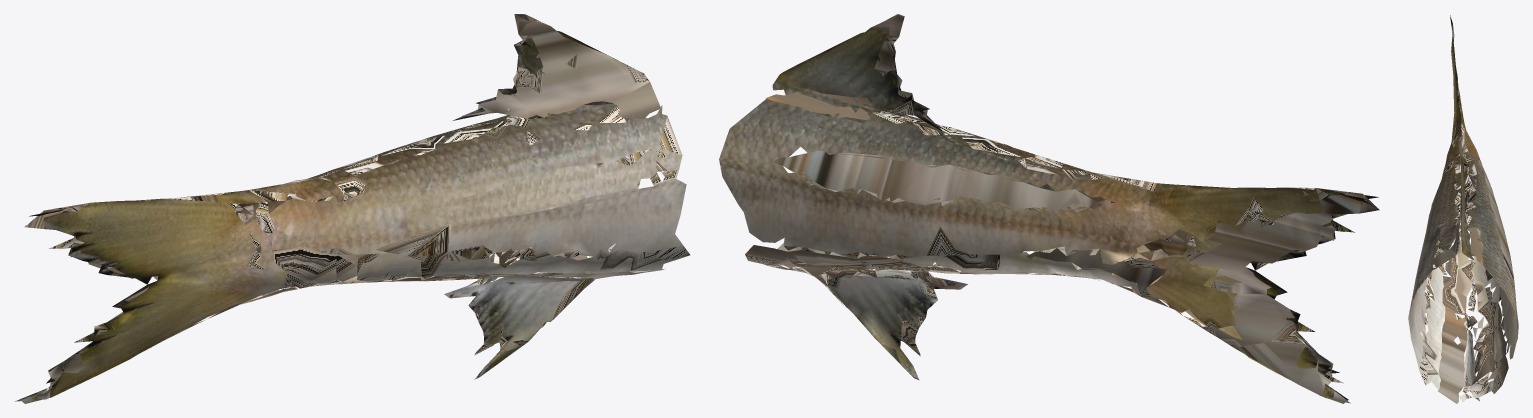
Rendered from barracuda_b.glb.
3 renders of one model, left to right at view 1: azimuth 30°, elevation 25°; view 2: azimuth 150°, elevation 25°; view 3: azimuth 270°, elevation 25°, orthographic. The views are drawn at different scales.
Visible parts, largest first — view 1: barracuda_b; view 2: barracuda_b; view 3: barracuda_b.
Part boxes in pixels (box(x1,y1,x2,y2)): barracuda_b: box(15, 14, 690, 403); barracuda_b: box(719, 14, 1379, 403); barracuda_b: box(1408, 15, 1518, 403).
Bounding box in the file's own units: 0.5729 × 0.3081 × 0.1127.
1 material, 1 textured.
